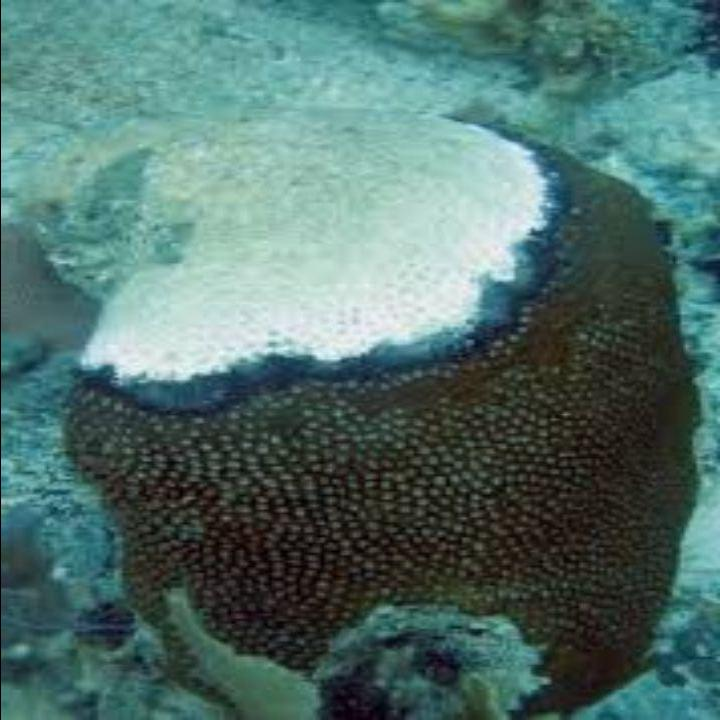Band disease: (55, 80, 564, 392)
